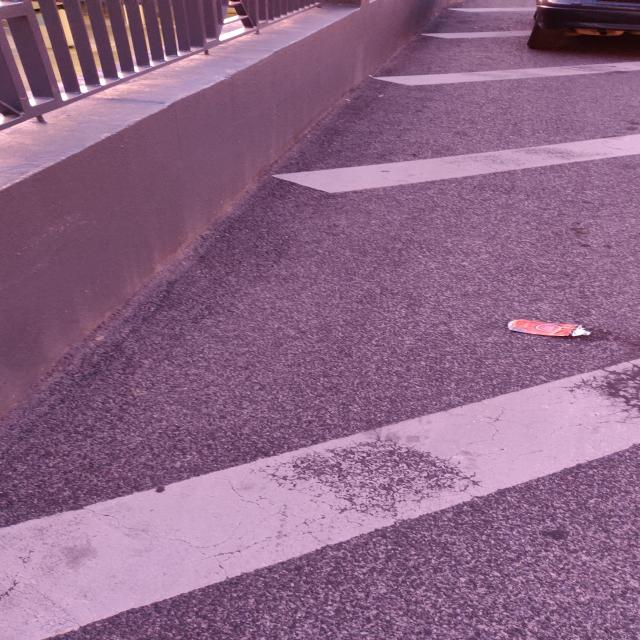litter: (487, 304, 607, 343)
